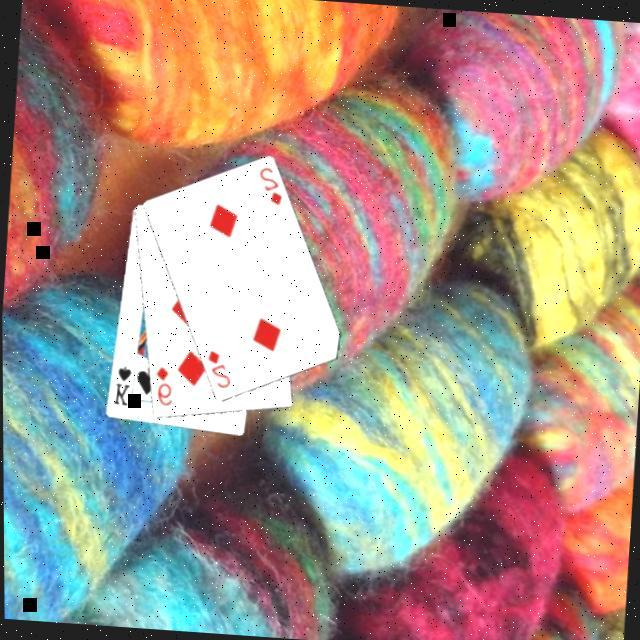2D: (254, 163, 288, 210), (202, 348, 235, 393)
6D: (151, 362, 178, 410)
KS: (110, 362, 134, 410)
